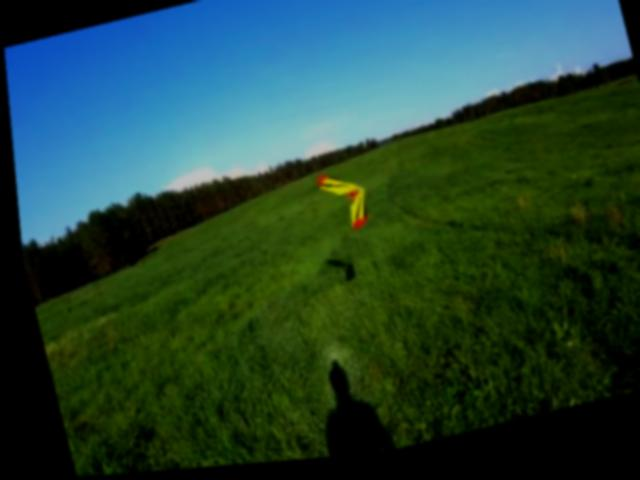flying wing: (308, 169, 370, 242)
